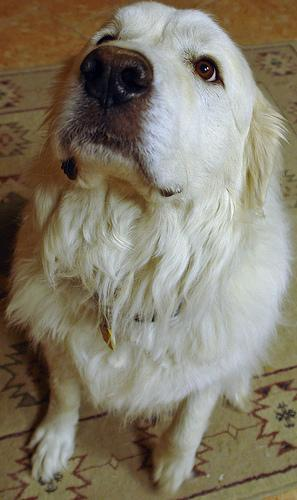Great_Pyrenees: (6, 0, 294, 495)
